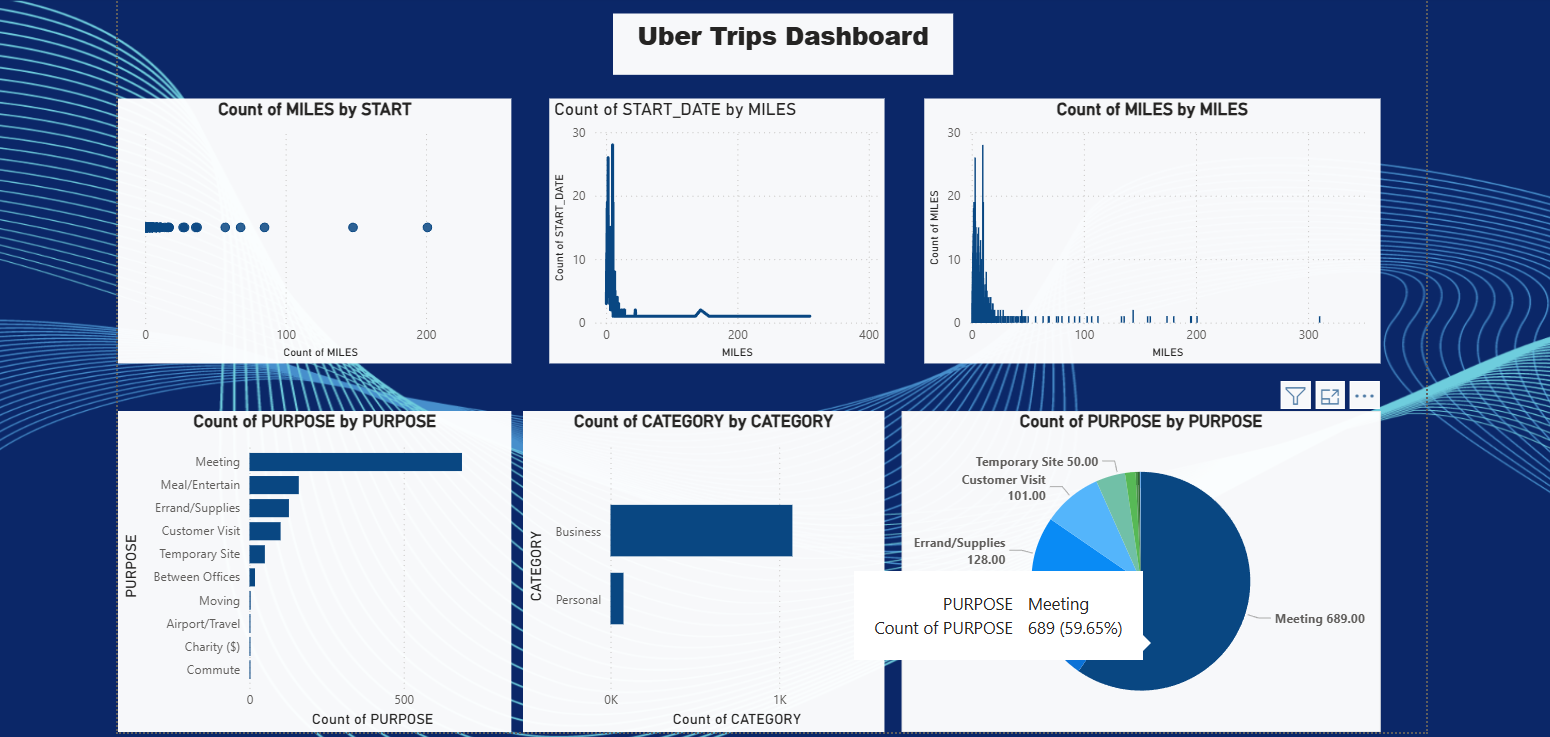

The dashboard page shown, as its layout file describes it:
{"tool":"powerbi","page":{"name":"Page 1","canvas":[1280,720],"ordinal":0},"visuals":[{"type":"pieChart","fields":{"Y":["CountNonNull(cleaned uber data.PURPOSE)"],"Category":["cleaned uber data.PURPOSE"]},"box":[766.7,406,468.3,314.3],"z":0},{"type":"lineStackedColumnComboChart","fields":{"Category":["cleaned uber data.MILES"],"Y":["CountNonNull(cleaned uber data.MILES)"]},"box":[788.7,100.3,446.3,259.2],"z":2000},{"type":"clusteredBarChart","fields":{"Category":["cleaned uber data.CATEGORY"],"Y":["CountNonNull(cleaned uber data.CATEGORY)"]},"box":[396.2,406,353.4,314.3],"z":3000},{"type":"clusteredBarChart","fields":{"Category":["cleaned uber data.PURPOSE"],"Y":["CountNonNull(cleaned uber data.PURPOSE)"]},"box":[0,406,385.2,314.3],"z":4000},{"type":"scatterChart","fields":{"Category":["cleaned uber data.START"],"X":["CountNonNull(cleaned uber data.MILES)"]},"box":[0,100.3,385.2,259.2],"z":4001},{"type":"lineChart","fields":{"Y":["CountNonNull(cleaned uber data.START_DATE)"],"Category":["cleaned uber data.MILES"]},"box":[421.9,100.3,327.7,259.2],"z":4002},{"type":"textbox","box":[484.2,17.1,332.6,59.9],"z":4003}]}

Visuals, with their boxes in screenshot pixels (x1, y1, x2, y2):
pieChart - CountNonNull(cleaned uber data.PURPOSE) x cleaned uber data.PURPOSE: x1=897 y1=407 x2=1371 y2=725
lineStackedColumnComboChart - cleaned uber data.MILES x CountNonNull(cleaned uber data.MILES): x1=919 y1=97 x2=1371 y2=360
clusteredBarChart - cleaned uber data.CATEGORY x CountNonNull(cleaned uber data.CATEGORY): x1=522 y1=407 x2=879 y2=725
clusteredBarChart - cleaned uber data.PURPOSE x CountNonNull(cleaned uber data.PURPOSE): x1=121 y1=407 x2=511 y2=725
scatterChart - cleaned uber data.START x CountNonNull(cleaned uber data.MILES): x1=121 y1=97 x2=511 y2=360
lineChart - CountNonNull(cleaned uber data.START_DATE) x cleaned uber data.MILES: x1=548 y1=97 x2=879 y2=360
textbox: x1=611 y1=13 x2=947 y2=74
